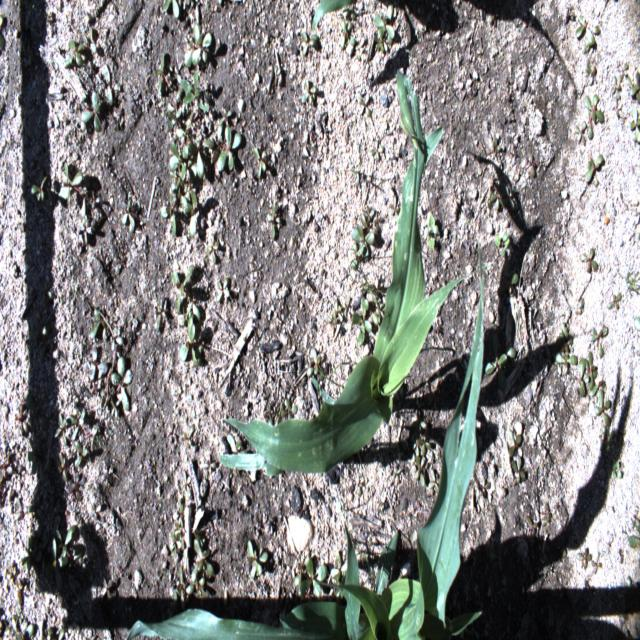crop: (126, 242, 486, 639), (218, 71, 463, 478), (310, 0, 360, 28)
weed: (352, 263, 384, 321), (486, 331, 508, 394), (291, 561, 327, 599), (110, 357, 134, 413), (182, 25, 212, 68), (216, 127, 243, 174), (46, 535, 66, 597), (58, 158, 85, 203), (355, 539, 376, 593), (171, 268, 195, 315), (583, 93, 607, 139), (370, 0, 398, 39), (575, 13, 601, 55), (55, 524, 85, 560), (180, 324, 203, 368), (80, 86, 101, 134), (246, 538, 270, 580), (181, 190, 202, 237), (26, 393, 50, 433), (83, 345, 108, 382), (192, 538, 214, 580), (181, 70, 204, 110), (351, 303, 372, 345), (593, 392, 615, 432), (20, 535, 42, 574), (352, 224, 376, 258), (160, 187, 177, 234), (170, 140, 188, 184), (581, 154, 607, 184), (496, 266, 518, 301), (174, 565, 194, 603), (305, 344, 326, 380), (214, 273, 233, 310), (62, 39, 86, 68), (90, 305, 108, 343), (589, 325, 609, 359), (161, 0, 189, 23), (55, 412, 71, 452), (154, 54, 170, 94), (65, 472, 86, 502), (150, 297, 168, 332), (164, 104, 185, 134), (24, 439, 41, 475), (121, 200, 138, 235), (28, 312, 49, 340), (16, 400, 31, 439), (424, 216, 439, 255), (491, 232, 511, 260), (32, 172, 50, 203), (577, 248, 598, 274), (203, 125, 221, 155), (510, 458, 528, 488), (186, 292, 199, 333), (628, 104, 640, 148), (72, 438, 89, 469), (329, 550, 346, 581), (13, 617, 36, 639), (627, 514, 639, 556), (508, 427, 524, 458), (485, 535, 498, 573), (556, 351, 578, 373), (206, 234, 221, 266), (413, 454, 428, 486), (300, 78, 317, 106), (300, 31, 318, 57), (70, 409, 86, 438), (254, 147, 268, 180), (558, 326, 576, 351), (78, 212, 92, 244), (582, 577, 596, 609), (586, 350, 600, 382), (625, 575, 638, 609), (489, 186, 506, 212), (27, 496, 43, 523), (627, 72, 640, 105), (268, 200, 278, 242), (339, 18, 353, 48), (279, 397, 298, 419), (196, 137, 205, 183), (625, 268, 639, 297), (109, 325, 124, 352), (40, 330, 53, 361), (200, 451, 216, 476), (83, 27, 97, 55), (576, 545, 593, 568), (179, 470, 192, 500), (417, 432, 432, 458), (490, 134, 503, 164), (352, 153, 364, 185), (542, 502, 554, 534), (504, 181, 516, 213), (527, 509, 540, 538), (97, 576, 113, 599), (371, 139, 385, 165), (174, 503, 184, 539), (600, 430, 615, 454), (58, 450, 69, 482), (349, 33, 365, 55), (41, 279, 53, 308), (171, 532, 182, 563), (333, 293, 344, 324), (173, 121, 190, 141), (525, 153, 537, 181), (611, 458, 626, 480), (578, 360, 586, 401), (183, 422, 195, 449), (590, 380, 609, 397), (572, 296, 586, 319), (359, 92, 373, 114), (586, 62, 600, 84), (42, 626, 67, 638), (372, 33, 386, 54), (428, 466, 438, 495), (593, 545, 603, 574), (218, 105, 233, 124), (188, 139, 195, 179), (343, 291, 352, 322), (617, 62, 629, 85), (607, 292, 621, 311), (419, 412, 434, 429), (0, 11, 6, 52), (113, 255, 123, 279), (610, 77, 620, 100), (577, 123, 587, 145), (41, 462, 48, 493), (480, 477, 490, 498), (381, 91, 392, 110), (612, 101, 623, 120), (328, 311, 337, 334), (110, 399, 120, 419), (364, 203, 374, 223), (508, 344, 518, 364), (342, 9, 357, 21), (199, 100, 210, 116), (374, 210, 381, 232), (486, 448, 493, 468), (266, 403, 273, 421), (618, 546, 625, 564), (169, 418, 173, 448), (634, 314, 640, 334), (606, 536, 612, 554), (371, 310, 377, 326)
